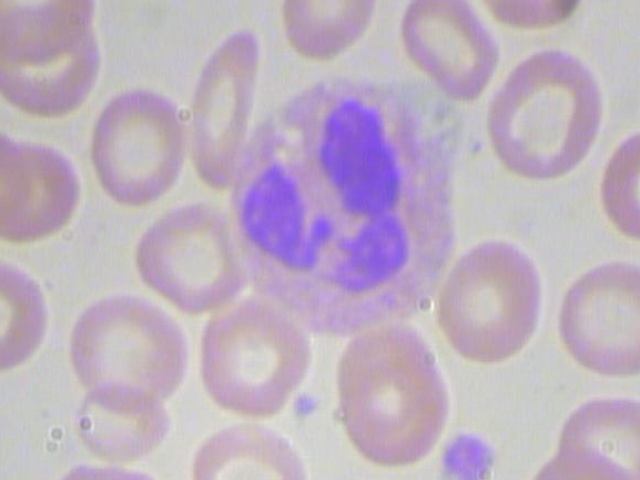Platelets: (437, 422, 500, 480), (287, 391, 328, 420)
RBC: (478, 42, 615, 189), (428, 221, 550, 371), (188, 296, 316, 416), (64, 286, 191, 406), (337, 339, 452, 465), (133, 193, 247, 318), (86, 79, 191, 206), (188, 27, 268, 189), (393, 0, 503, 103), (0, 119, 85, 245), (554, 254, 640, 376), (69, 375, 174, 466), (0, 252, 66, 377), (550, 393, 640, 480), (279, 0, 384, 67), (0, 0, 97, 56), (474, 0, 588, 34)
WBC: (213, 75, 483, 339)
